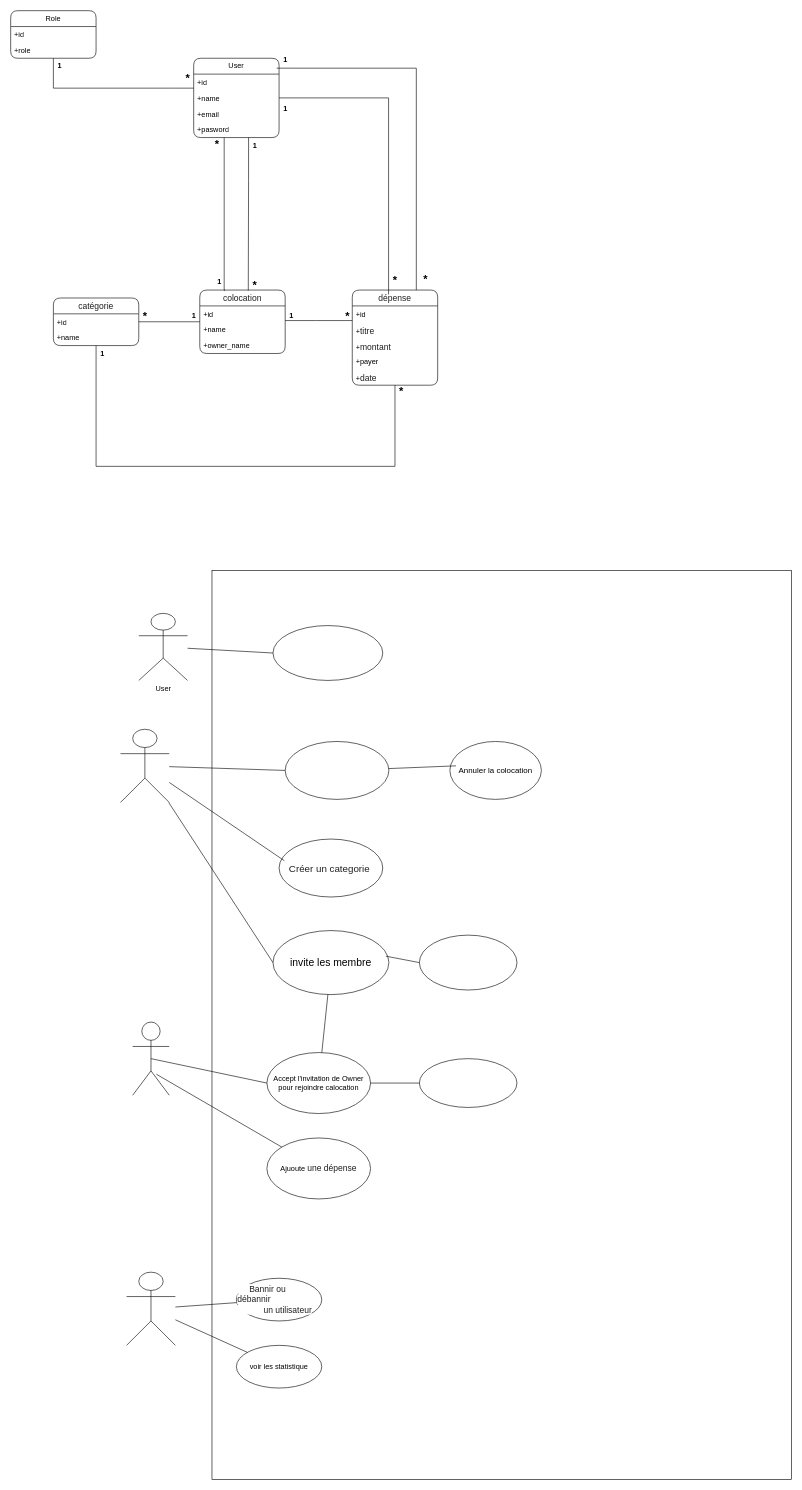
The diagram is 802 pixels wide and 1490 high, and some of its shapes have lost their labels. The centre of each missing label's shape, as x and y in pixels:
"Admin" goes at pixel 150 1308.
"Créer un colocation" goes at pixel 337 770.
"Membre" goes at pixel 150 1058.
"Owner" goes at pixel 144 765.
"Quitter une colocation" goes at pixel 468 1082.
"Retirer un membre" goes at pixel 468 962.
"S’inscrire se connecter" goes at pixel 327 652.
